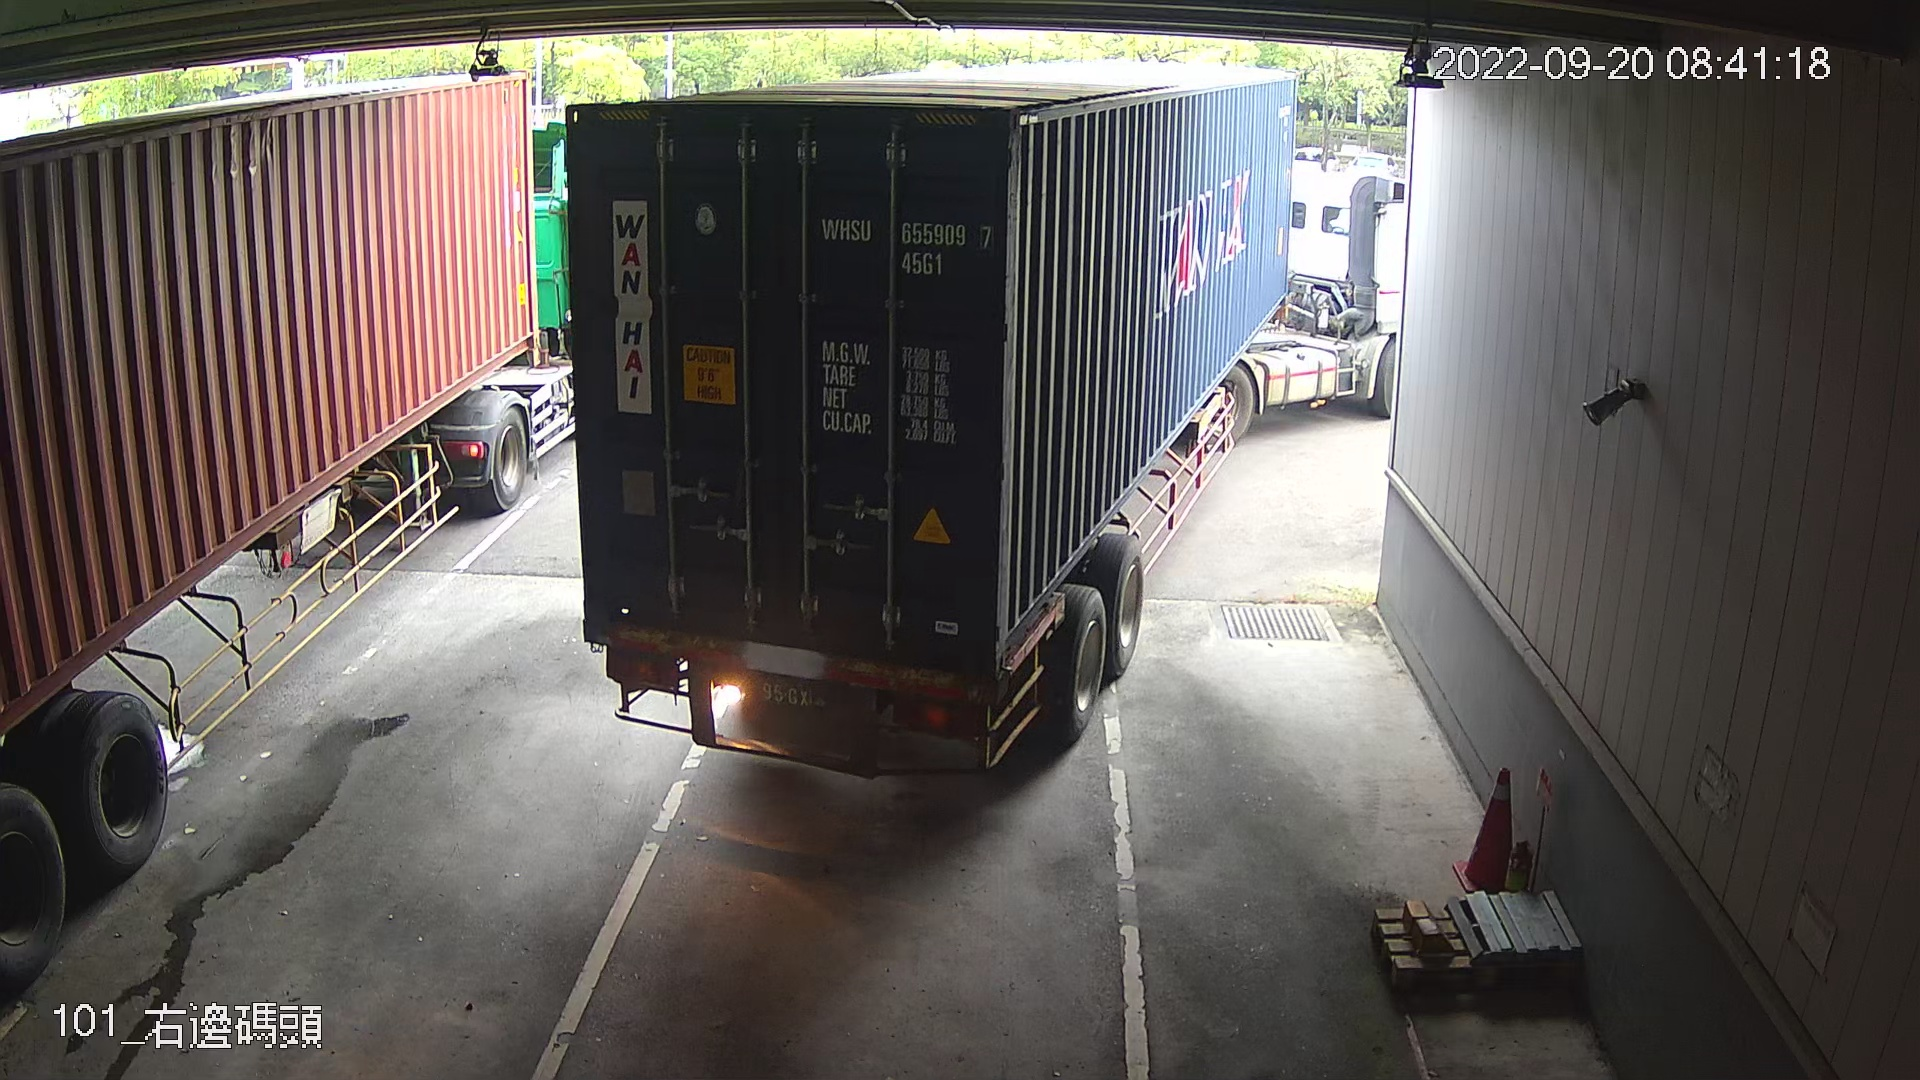container: (814, 207, 1000, 286)
